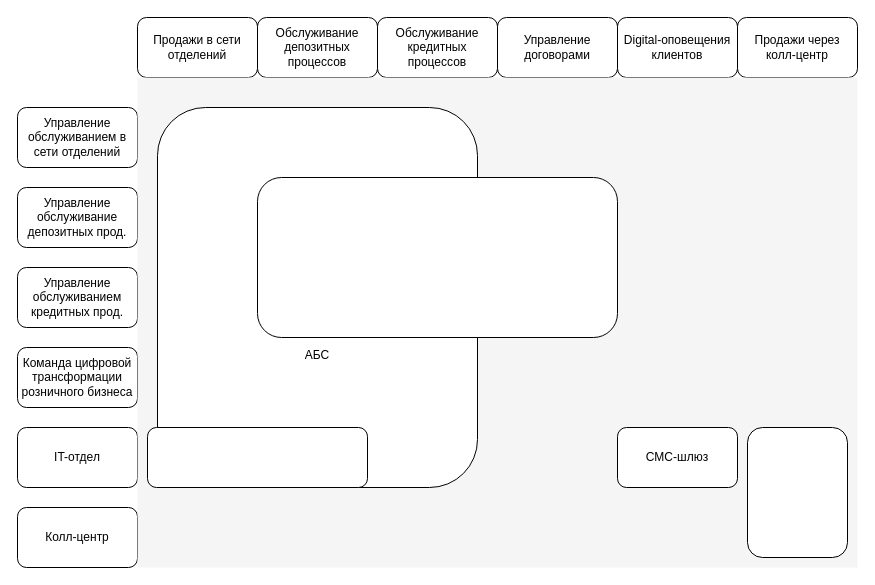
Some shapes in this 875 by 585 pixel diagram are drawn without their labels. Here are the shapes that lost their labels. From the top down, the centre of each, then its label:
At (437,257): "Интернет-банк".
At (257,457): "Сайт".
At (797,492): "Ситема колл-центра".
